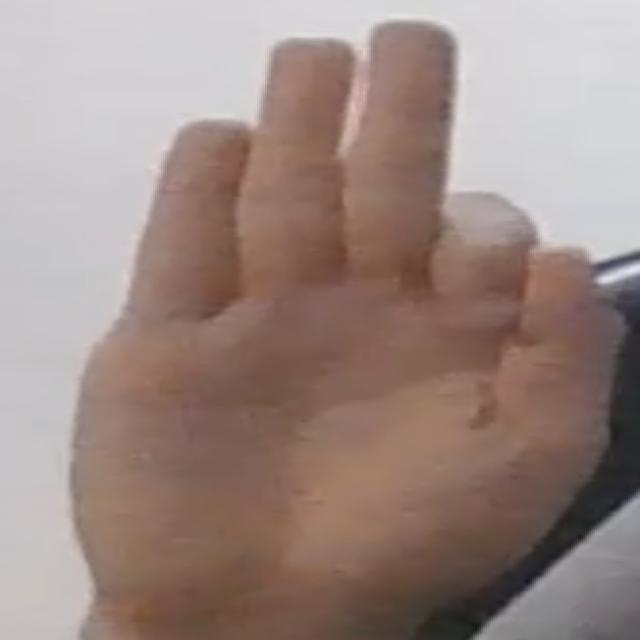F: (57, 15, 628, 618)
